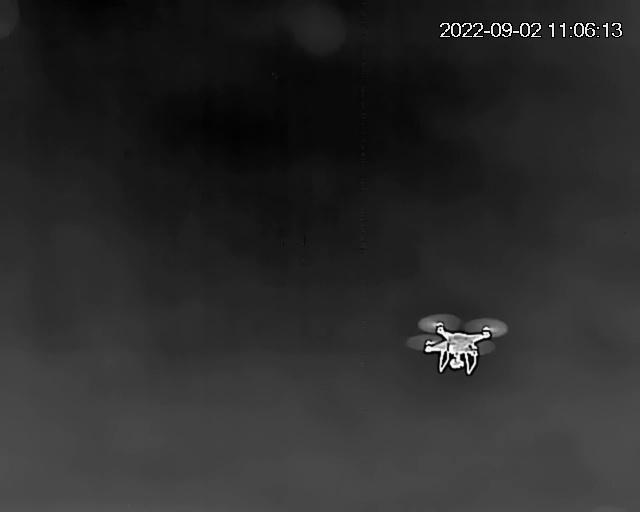DJI-Phantom: (409, 308, 508, 378)
